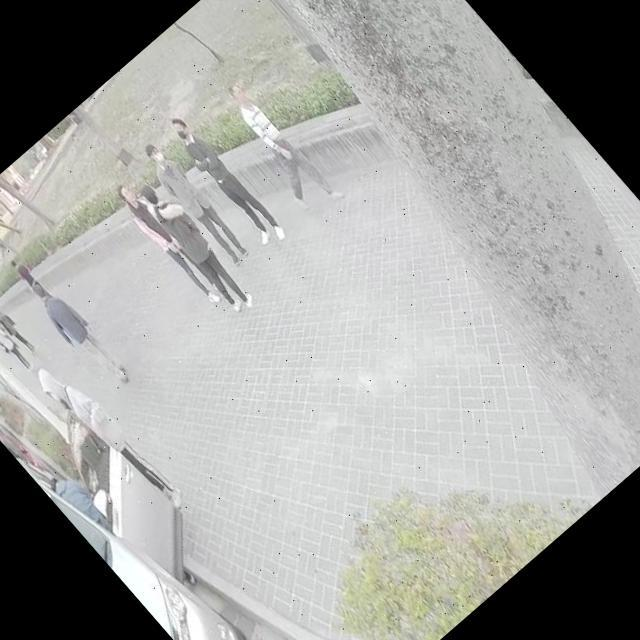person: (32, 348, 188, 522), (203, 69, 350, 228), (136, 176, 260, 313), (165, 109, 288, 246), (112, 178, 230, 309), (20, 270, 134, 393), (139, 140, 252, 264), (48, 464, 106, 527), (0, 298, 38, 357), (0, 315, 32, 368), (5, 250, 44, 290)
